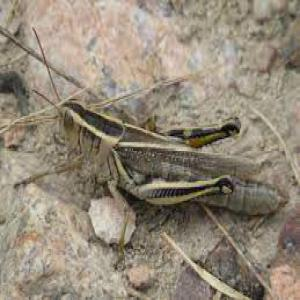locust: (31, 44, 290, 247)
